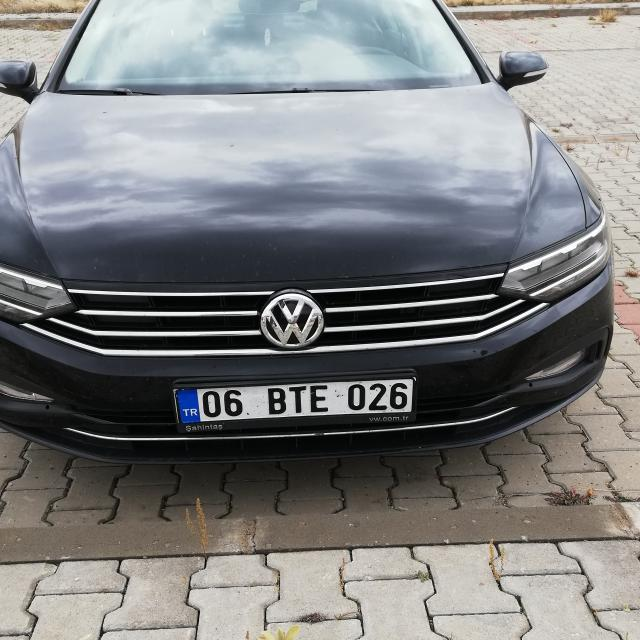license_plate: (175, 378, 415, 422)
